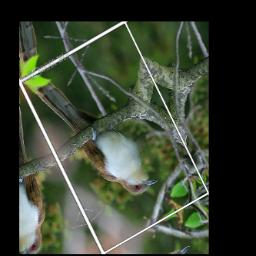Cuckoo: (26, 44, 161, 222)
